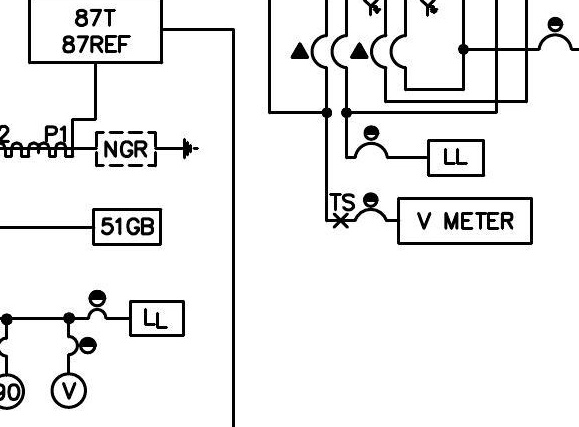LL: (426, 138, 486, 178), (128, 300, 186, 337)
NGR_future: (94, 131, 200, 168)
v_m: (49, 371, 88, 410)
v_m_digital: (396, 196, 534, 246)
